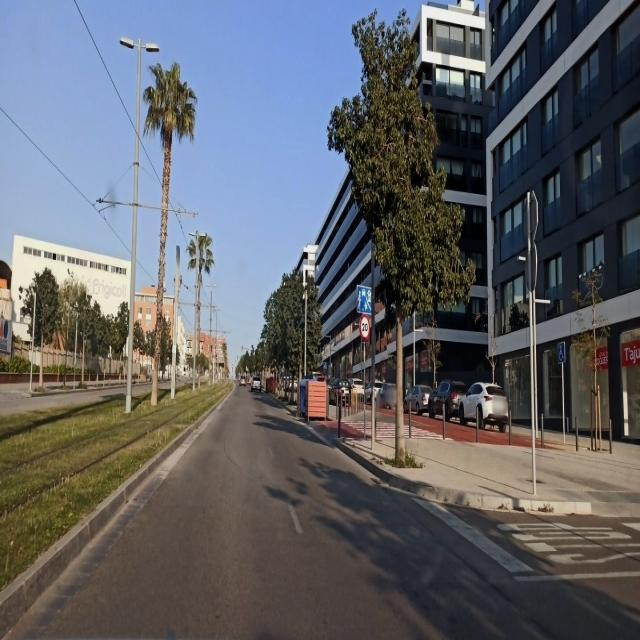car: (458, 380, 509, 430), (428, 378, 468, 420), (404, 382, 432, 416), (376, 380, 399, 410), (327, 377, 350, 405), (364, 378, 383, 403), (346, 376, 364, 402), (250, 374, 262, 393), (239, 374, 246, 387)
